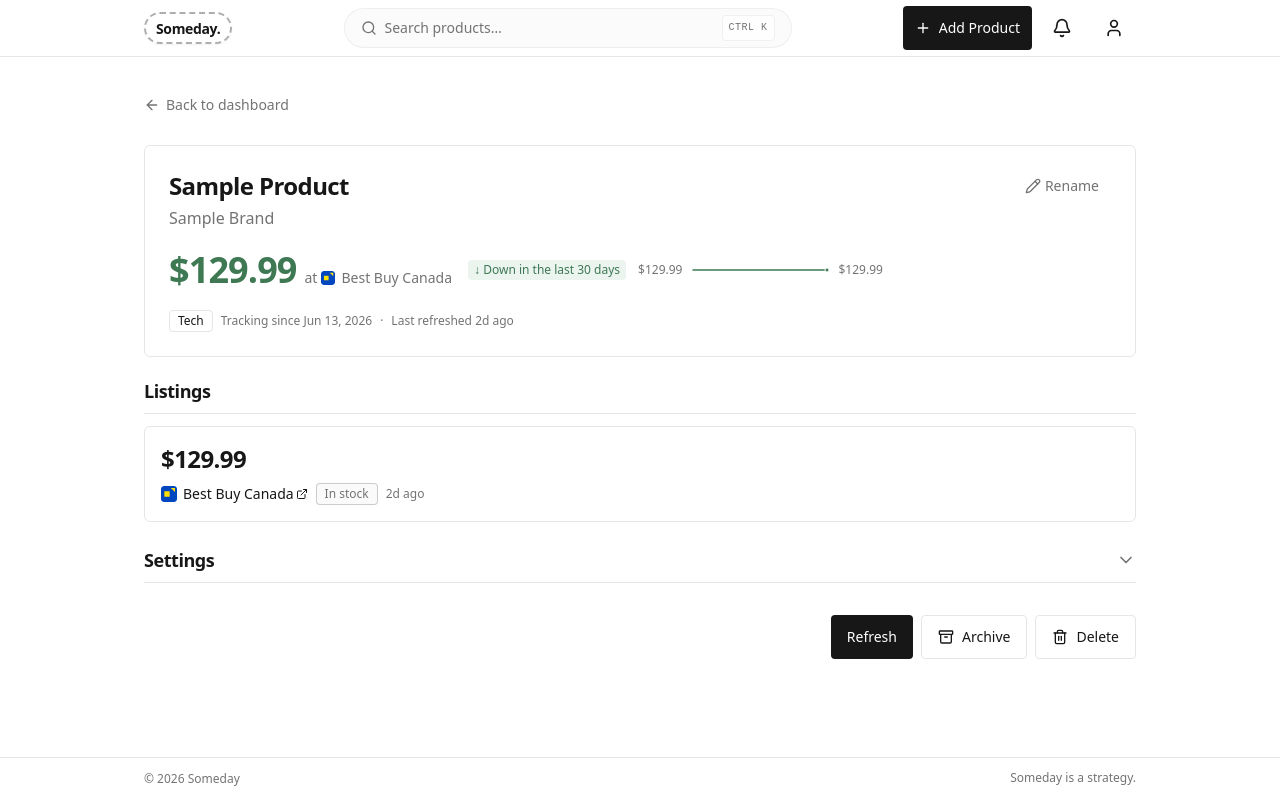
Test case: ProductDetailPage › does not PATCH title when rename is cancelled
Click the button with aria-label "rename product" at [1062, 186], box [1013, 170, 1111, 202]
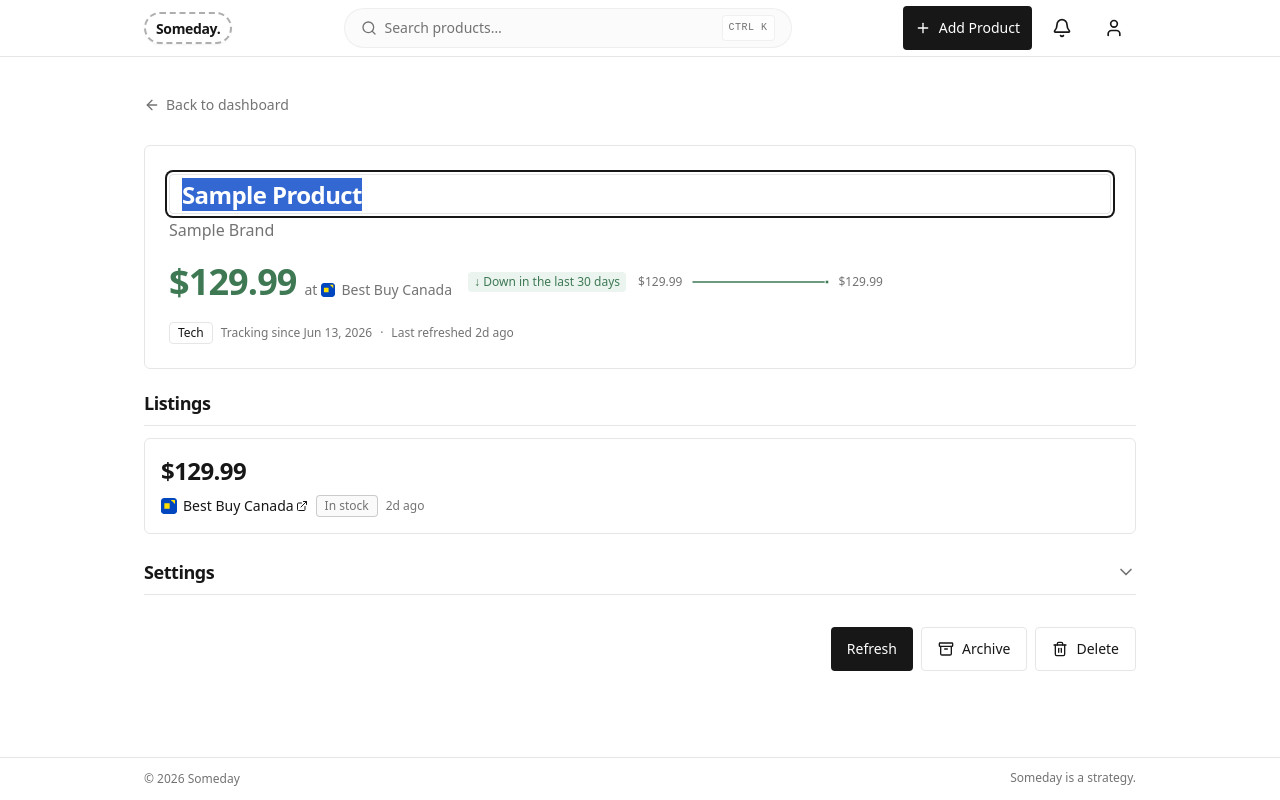
Replace the text in the field named "product name" with "Ignored name" at [640, 194], box [169, 174, 1111, 214]
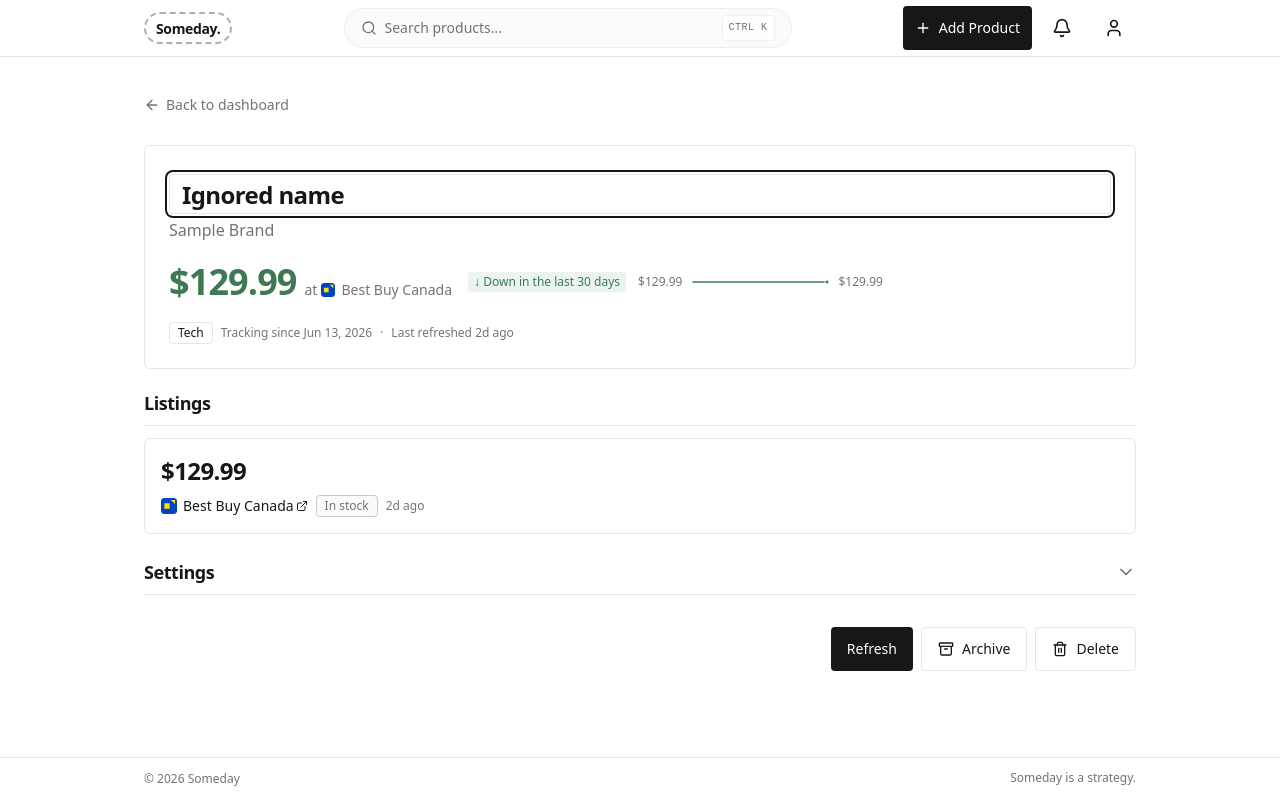
Press Escape
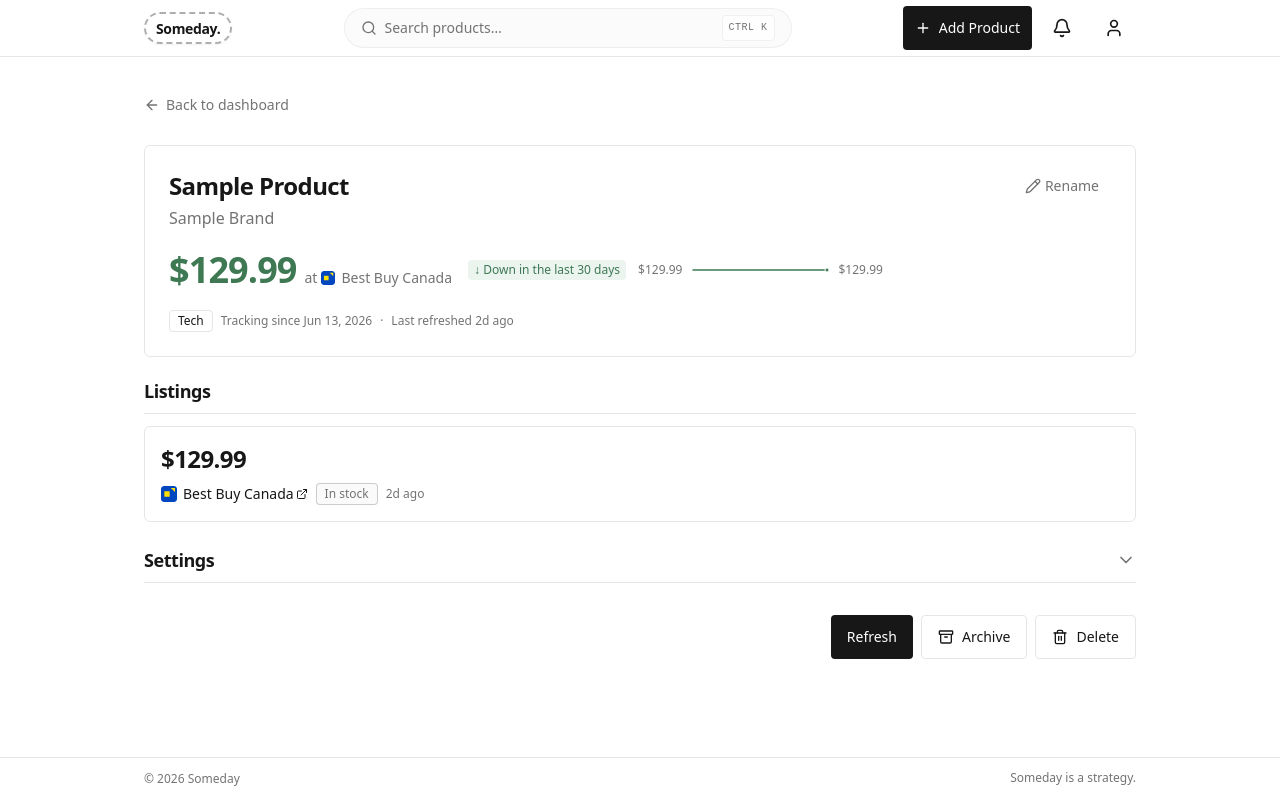
Expected: the heading "Sample Product" is shown, [169, 169, 349, 202]
